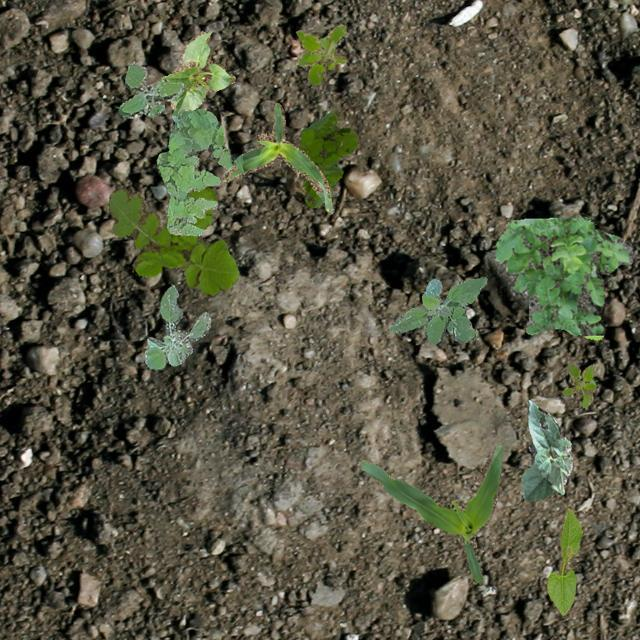crop: (357, 444, 502, 582), (220, 101, 334, 212), (160, 30, 234, 110), (526, 398, 572, 494), (546, 508, 580, 614), (520, 439, 554, 502)
weed: (494, 215, 632, 338), (108, 186, 238, 296), (156, 108, 232, 235), (386, 276, 486, 344), (298, 108, 358, 206), (143, 284, 210, 368), (118, 60, 182, 116), (294, 23, 346, 84), (562, 362, 594, 407)
